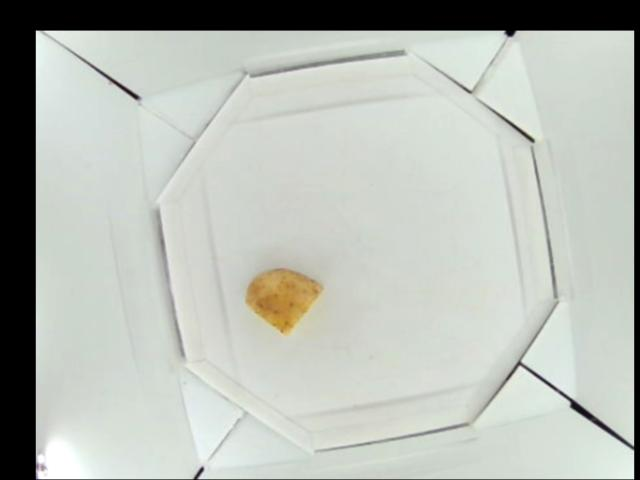Potato: (247, 266, 322, 332)
